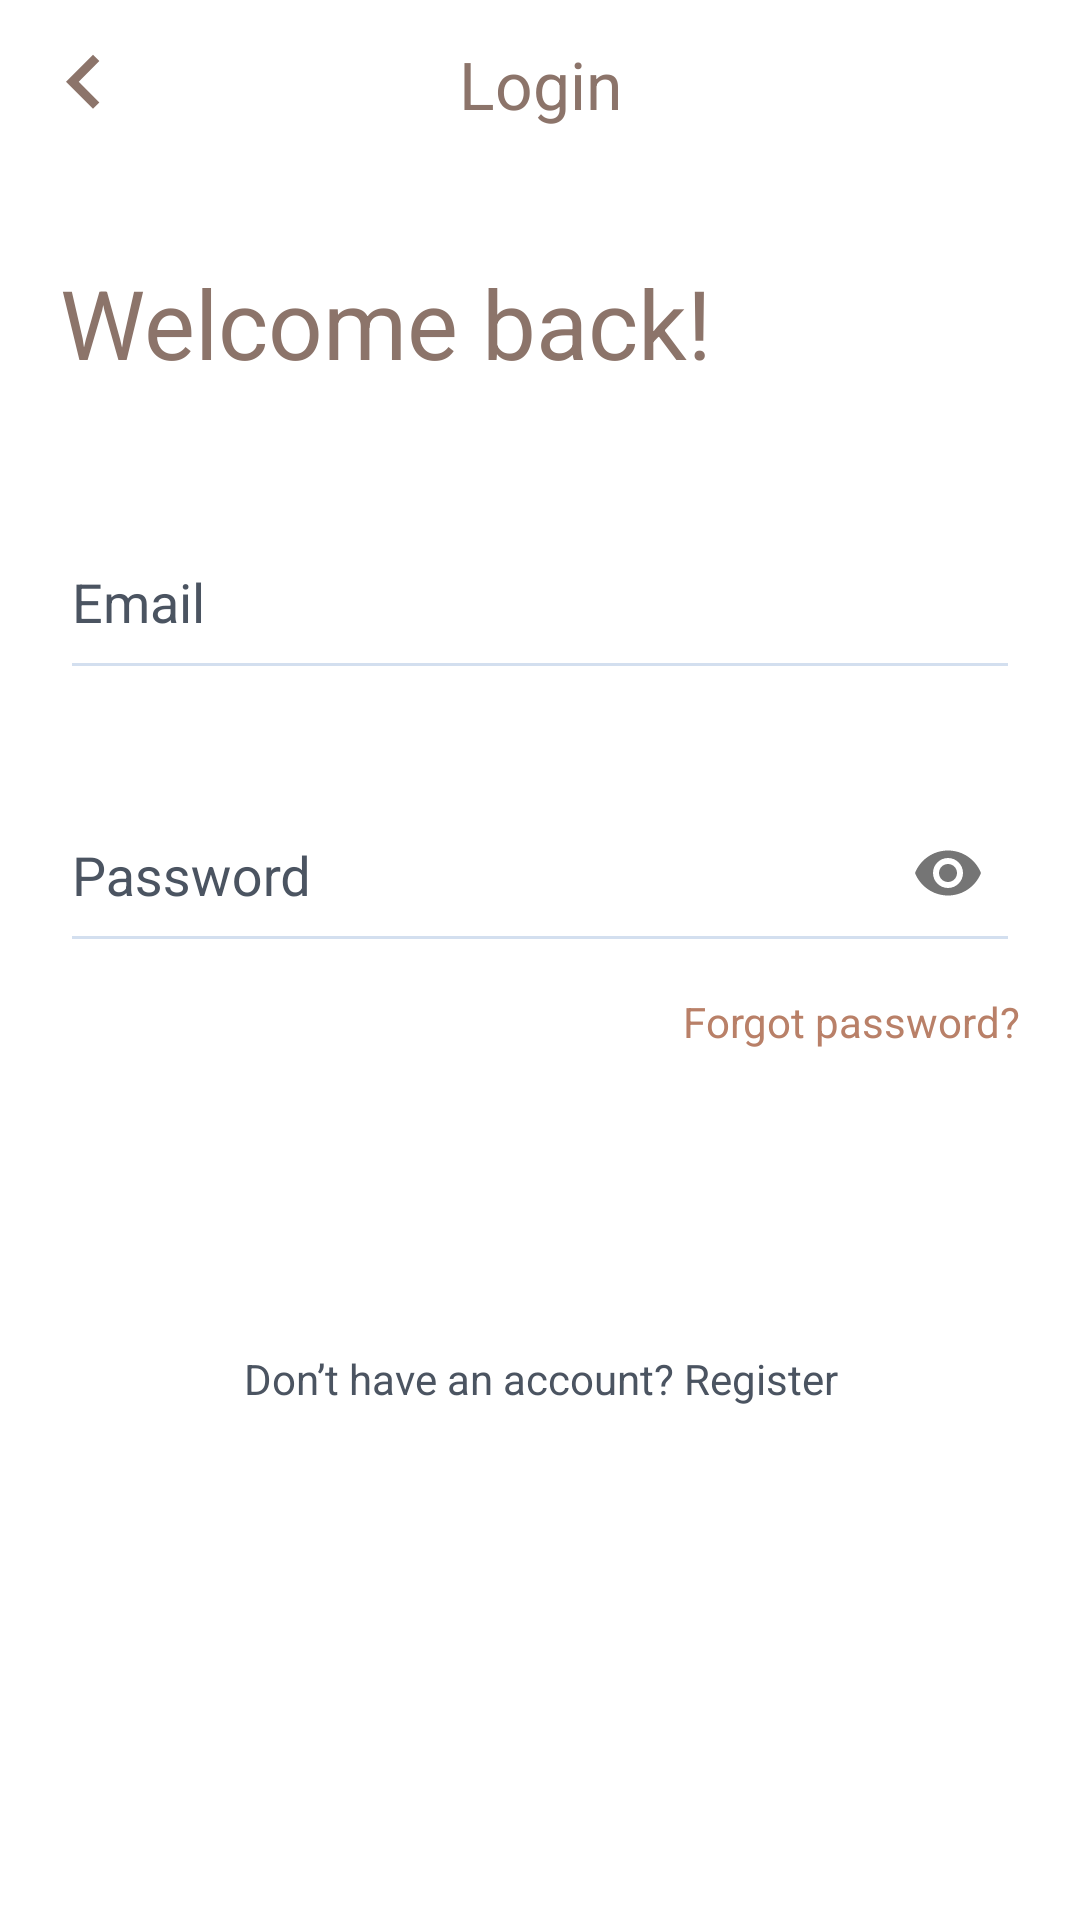

Named icons in this screenshot (1080*1920) and their bounding boxes, (x1, y1, x2, y2):
all back: (66, 55, 99, 109)
